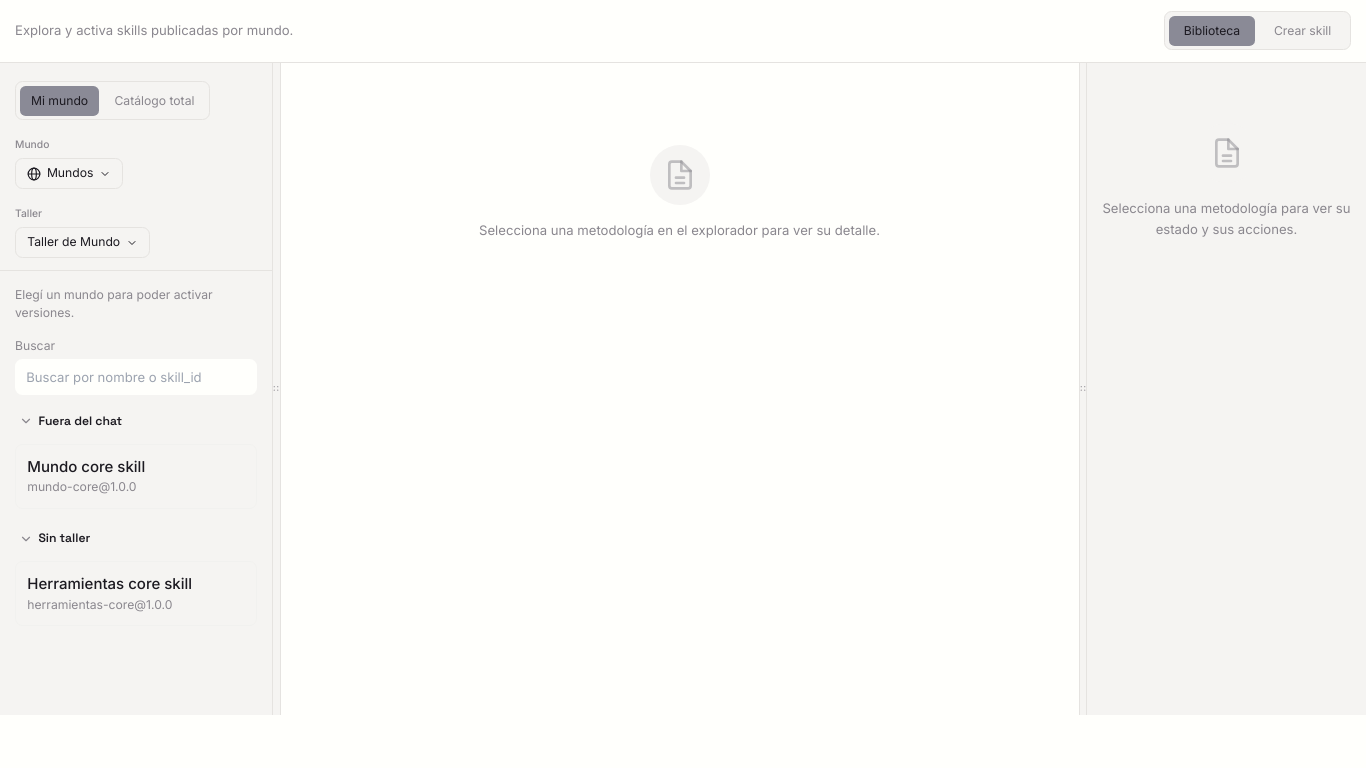
ToolWorkshop › recomputes the tree when the taller selector changes (REQ-TRE-1 S2)
Expected: the text "Mundo core skill" is shown, x1=27 y1=457 x2=145 y2=476
Expected: the text "Ideas core skill" is not shown
# Switch to Taller de Ideas → the contextual tree recomputes.
Click the button "Taller de Mundo" at coordinates (82, 243), box x1=15 y1=227 x2=150 y2=258
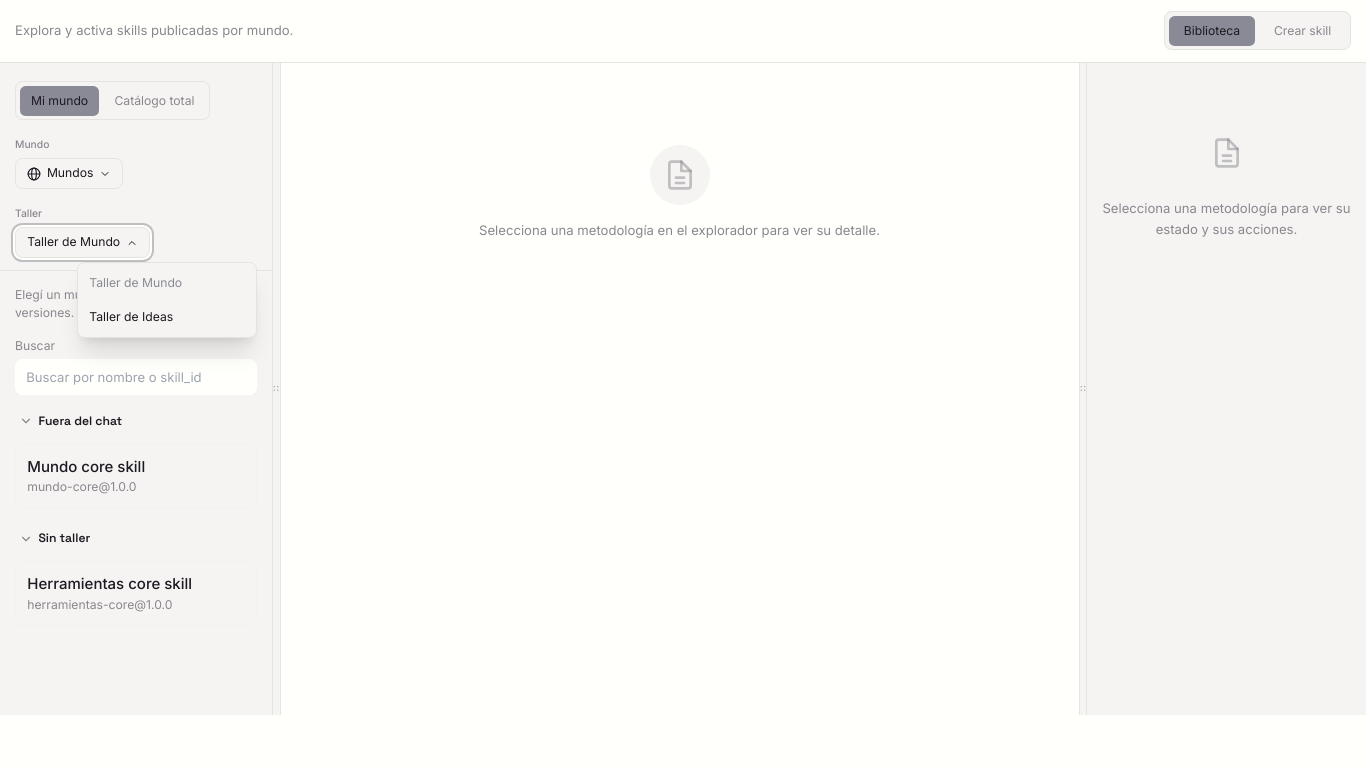
Click the option "Taller de Ideas" at coordinates (167, 317), box x1=78 y1=300 x2=256 y2=334
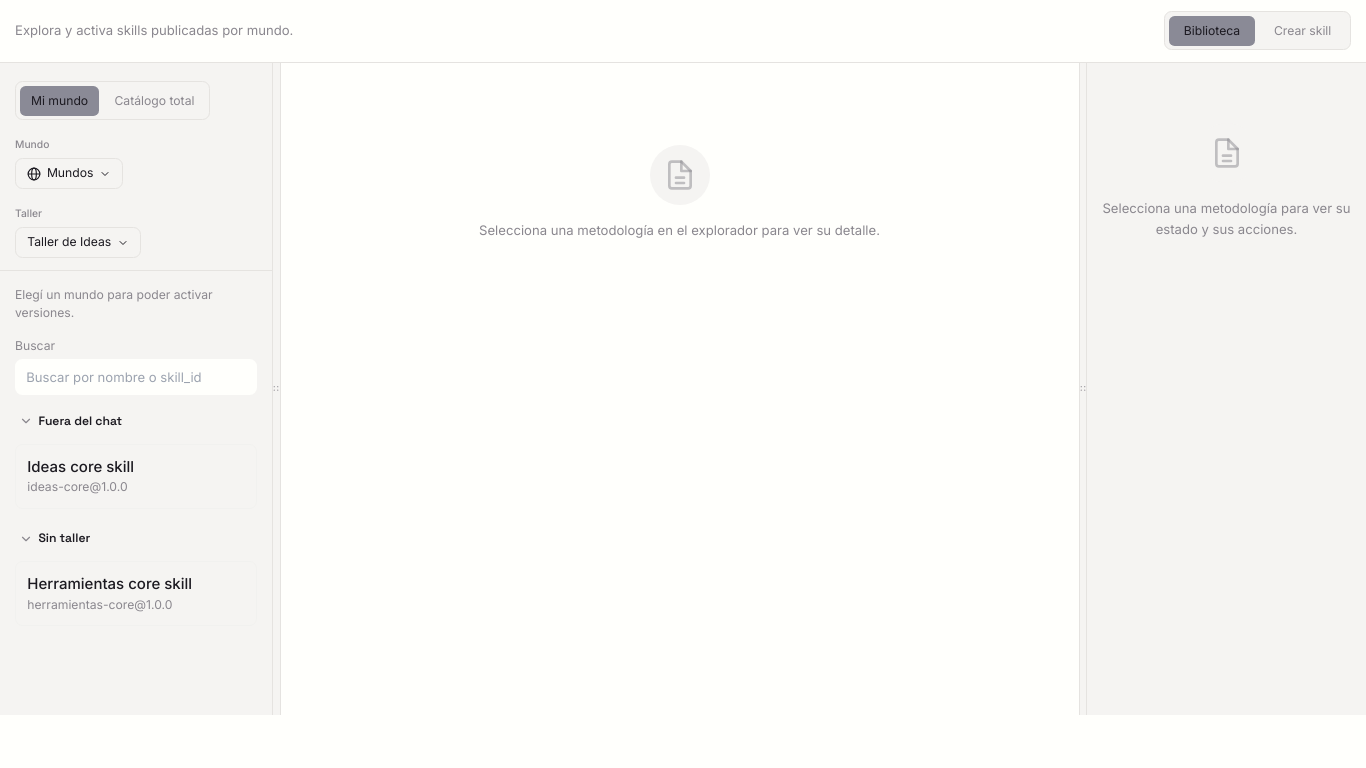
Result: the text "Ideas core skill" is shown at x1=27 y1=457 x2=134 y2=476
Result: the button "Mundo core skill" is gone
Result: the button "Taller de Ideas" is shown at x1=15 y1=227 x2=141 y2=258
